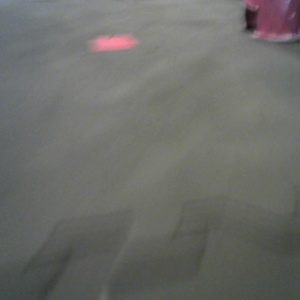right: (219, 1, 291, 66)
